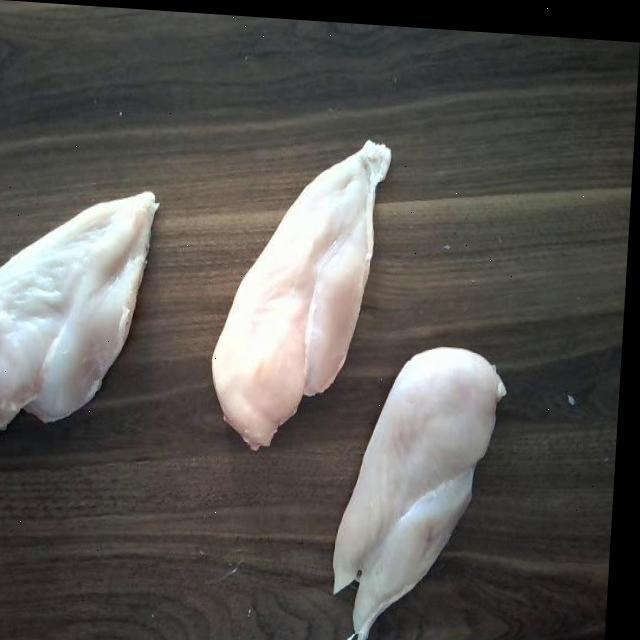breast: (213, 122, 394, 440), (0, 168, 171, 463), (342, 325, 500, 640)
